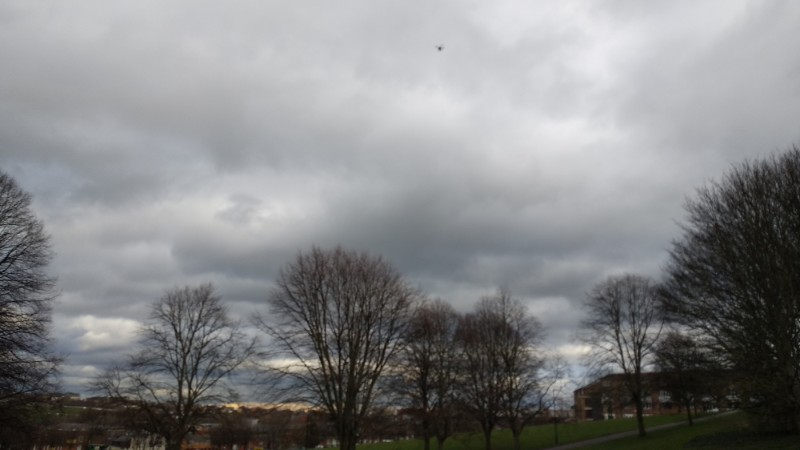drone: (433, 44, 445, 51)
